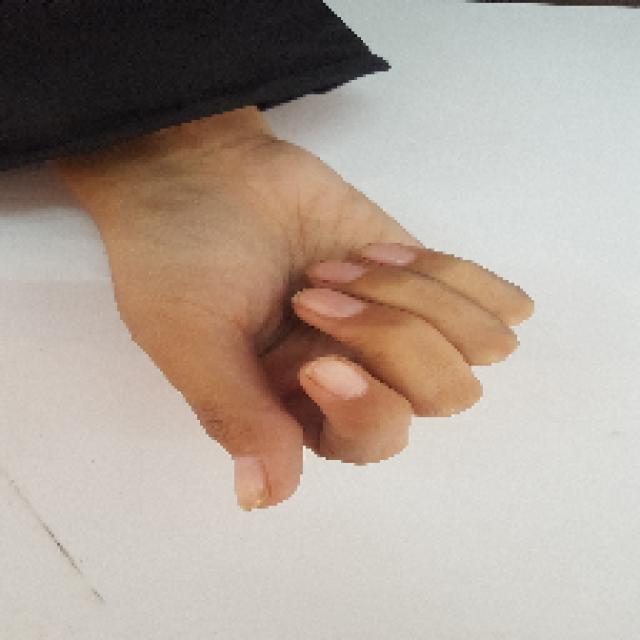Nail: (305, 356, 369, 400), (294, 289, 368, 318), (233, 458, 269, 510), (361, 244, 416, 266), (308, 261, 364, 282)
